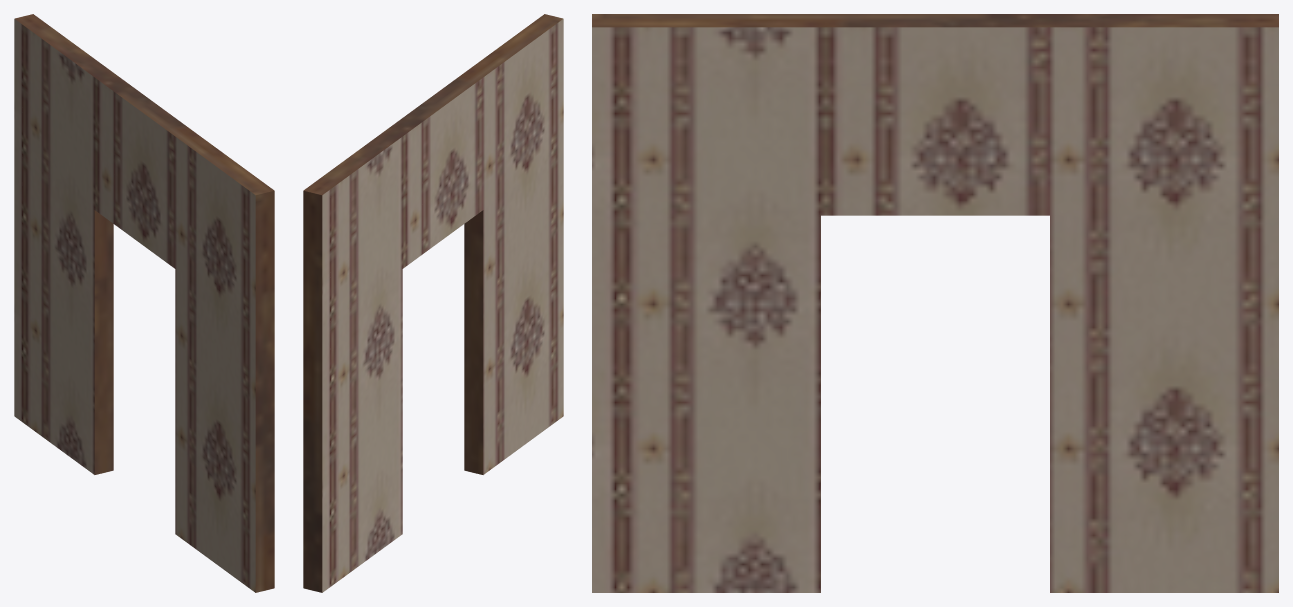
File: wall3.dae
The picture shows the model from 3 angles, left to right: view 1: azimuth 30°, elevation 25°; view 2: azimuth 150°, elevation 25°; view 3: azimuth 270°, elevation 25°; orthographic projection. The views are drawn at different scales.
Parts seen in each view (by area): view 1: Plane.001; view 2: Plane.001; view 3: Plane.001.
Part boxes in pixels (x1,y1,x2,y2): Plane.001: (14,14,274,592); Plane.001: (303,14,563,592); Plane.001: (592,14,1278,592).
Bounding box in the file's own units: 0.15 × 3.3 × 3.
1 material, 1 textured.
